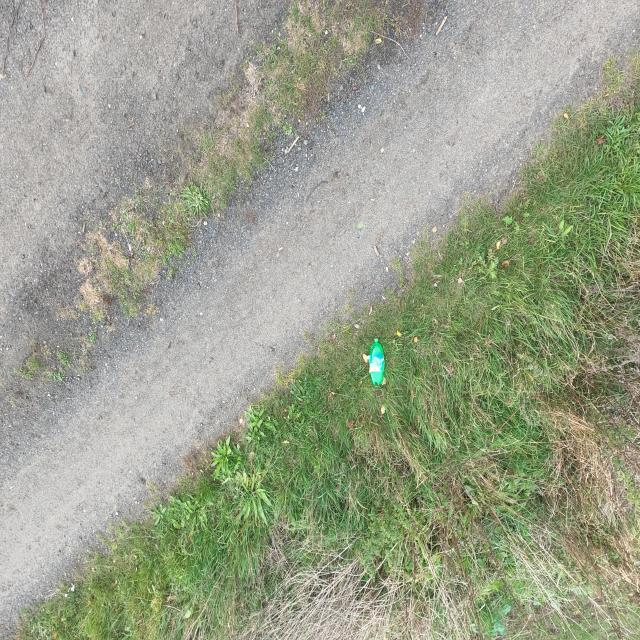rubbish: (254, 253, 272, 302)
